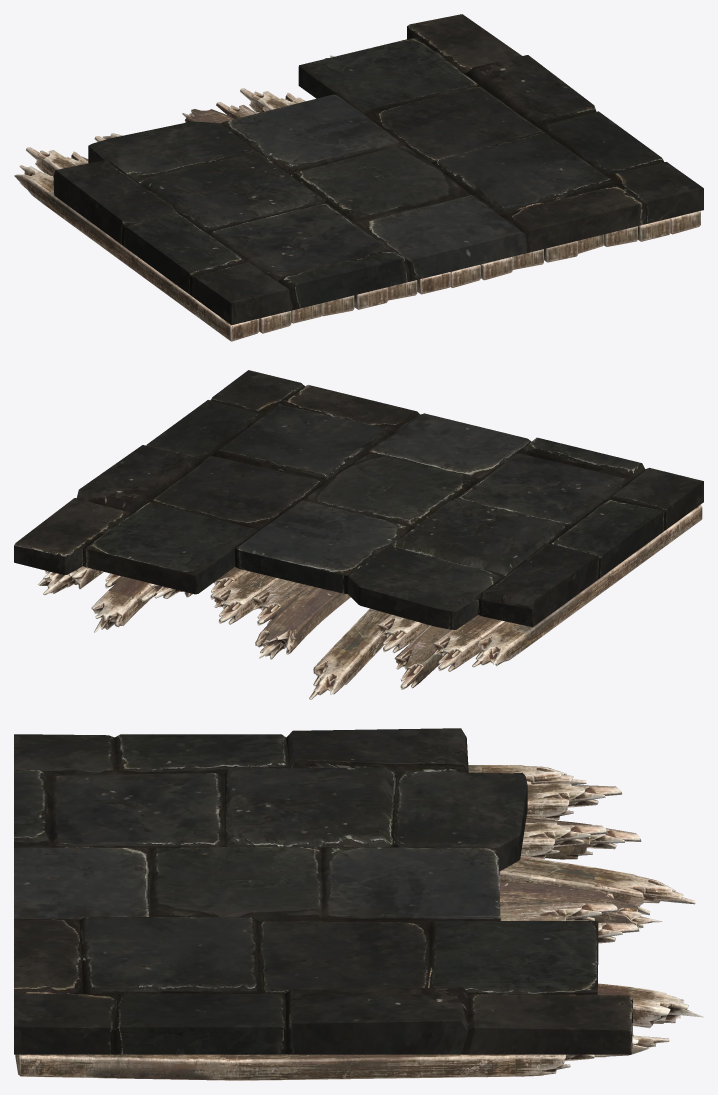
The picture shows the model from 3 angles, top to bottom: view 1: azimuth 30°, elevation 25°; view 2: azimuth 150°, elevation 25°; view 3: azimuth 270°, elevation 25°; orthographic projection. The views are drawn at different scales.
Parts seen in each view (by area): view 1: SM_SaradominTemple_Floor_Dmg_4x4_01_v3_LOD0; view 2: SM_SaradominTemple_Floor_Dmg_4x4_01_v3_LOD0; view 3: SM_SaradominTemple_Floor_Dmg_4x4_01_v3_LOD0.
Part boxes in pixels (x1,y1,x2,y2): SM_SaradominTemple_Floor_Dmg_4x4_01_v3_LOD0: (14, 14, 703, 341); SM_SaradominTemple_Floor_Dmg_4x4_01_v3_LOD0: (14, 370, 703, 699); SM_SaradominTemple_Floor_Dmg_4x4_01_v3_LOD0: (14, 728, 703, 1080).
Bounding box in the file's own units: 4 × 0.5822 × 3.98.
Materials: 2 (2 with a texture image).
